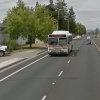Bus: (42, 26, 75, 60)
